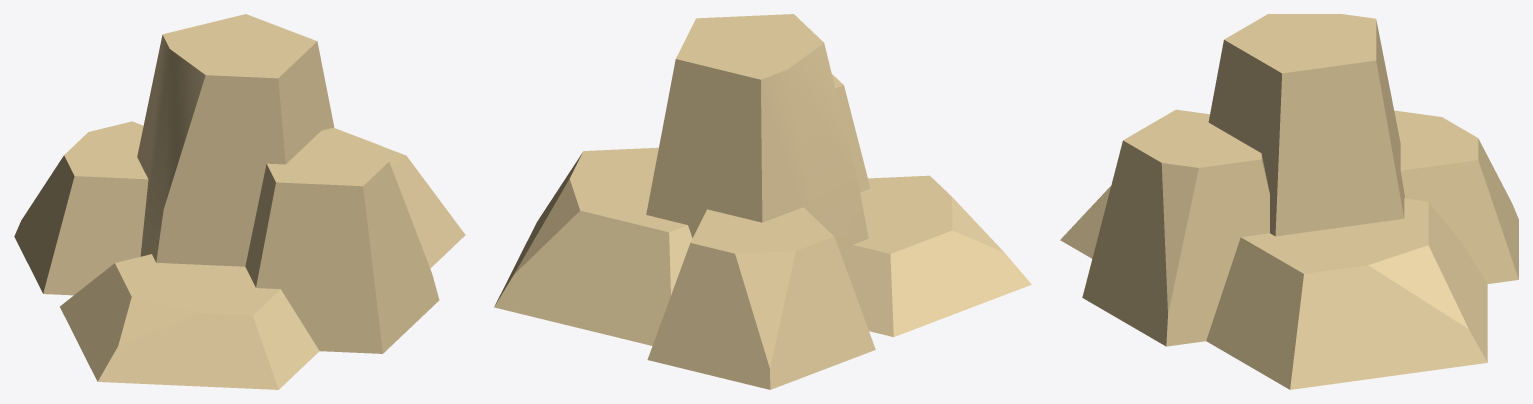
The model's file is scenery_rock_small.glb.
3 views of the same model, side by side, from view 1: azimuth 30°, elevation 25°; view 2: azimuth 150°, elevation 25°; view 3: azimuth 270°, elevation 25° (orthographic). The views are drawn at different scales.
Parts seen in each view (by area): view 1: rockB; view 2: rockB; view 3: rockB.
Boxes of the visible parts, left/top/right/bottom form: rockB: left=14, top=14, right=465, bottom=389; rockB: left=494, top=14, right=1031, bottom=389; rockB: left=1060, top=14, right=1518, bottom=389.
Size of the model in its own units: 0.7991 by 0.4186 by 0.7247.
